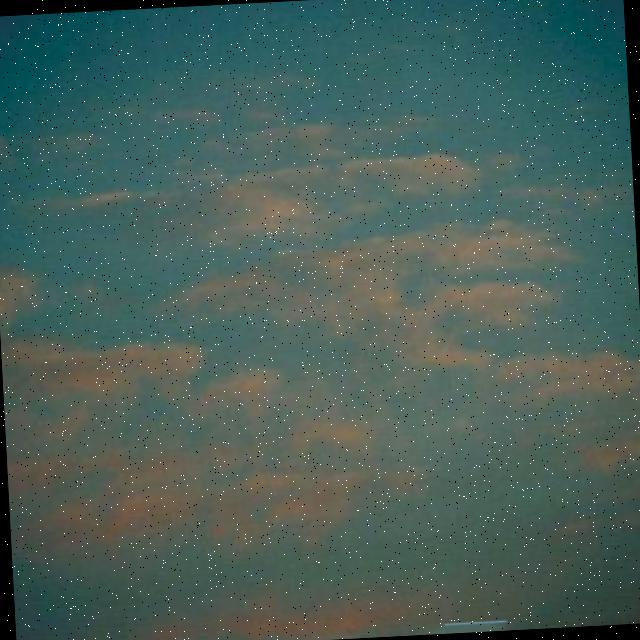Ci: (1, 1, 640, 606)
